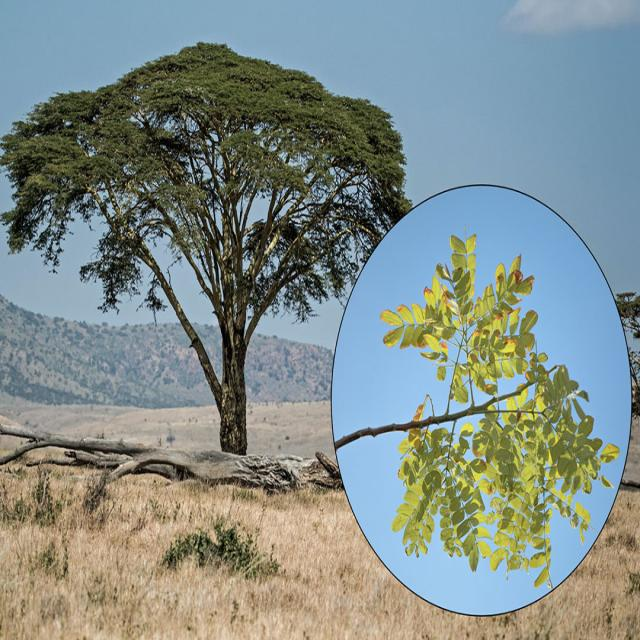Acacia: (10, 32, 329, 438)
